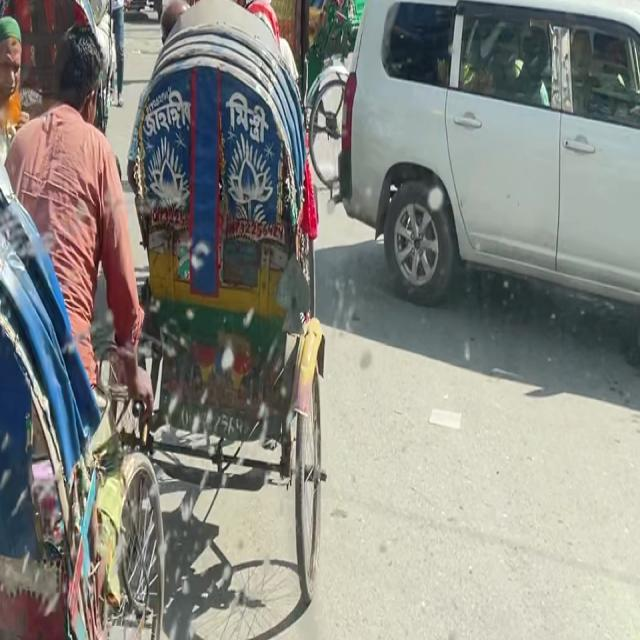car: (344, 0, 640, 320)
